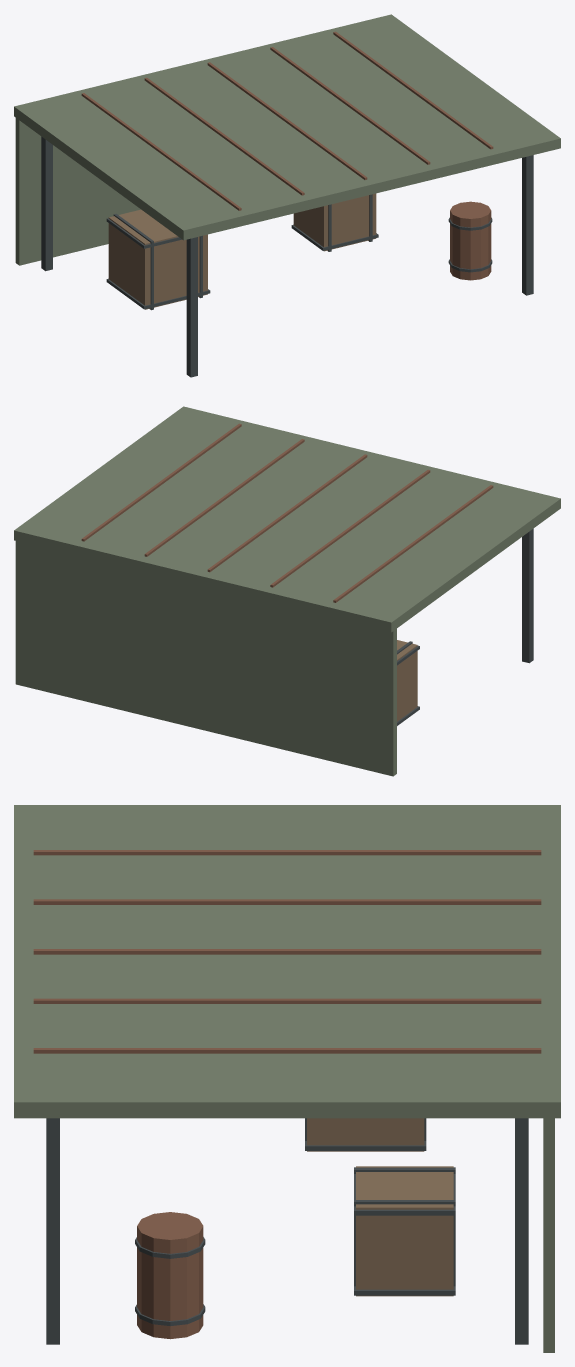
Rendered from Refuge_Abri_02.fbx.
3 views of the same model, one above another, from view 1: azimuth 30°, elevation 25°; view 2: azimuth 150°, elevation 25°; view 3: azimuth 270°, elevation 25° (orthographic). The views are drawn at different scales.
Parts seen in each view (by area): view 1: Refuge_Abri_02_canvas, Refuge_Abri_02_wood, Refuge_Abri_02_iron, Refuge_Abri_02_rust; view 2: Refuge_Abri_02_canvas, Refuge_Abri_02_rust, Refuge_Abri_02_iron, Refuge_Abri_02_wood; view 3: Refuge_Abri_02_canvas, Refuge_Abri_02_rust, Refuge_Abri_02_wood, Refuge_Abri_02_iron.
Boxes of the visible parts, x1,y1,x2,y2 form: Refuge_Abri_02_canvas: (14,14,560,265); Refuge_Abri_02_wood: (108,193,376,309); Refuge_Abri_02_iron: (41,136,533,377); Refuge_Abri_02_rust: (81,31,493,280); Refuge_Abri_02_canvas: (14,406,560,776); Refuge_Abri_02_rust: (81,423,493,602); Refuge_Abri_02_iron: (397,528,533,725); Refuge_Abri_02_wood: (397,640,417,721); Refuge_Abri_02_canvas: (14,805,560,1352); Refuge_Abri_02_rust: (33,850,541,1339); Refuge_Abri_02_wood: (307,1118,453,1296); Refuge_Abri_02_iron: (46,1118,528,1344).
Size of the model in its own units: 18 by 7.39 by 14.
